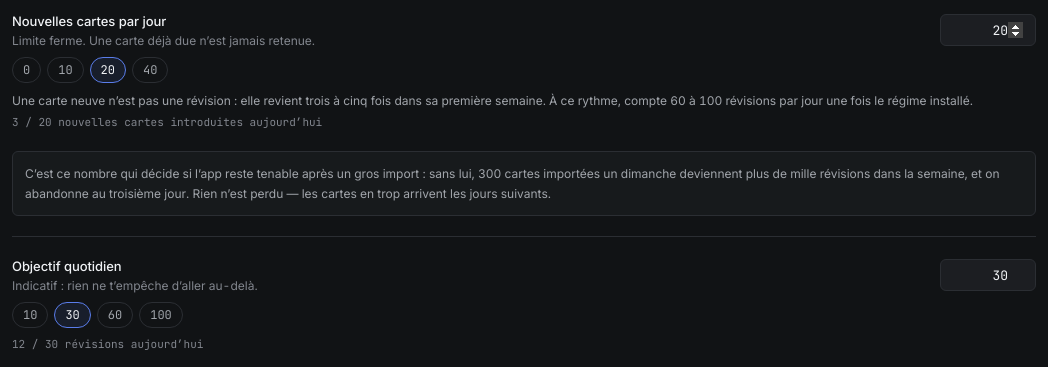
Scenario: committing a change › restores the stored value when the field is left empty, instead of writing a default
Clear the number field labelled "Nouvelles cartes par jour" at [988, 30], box [940,14,1036,46]
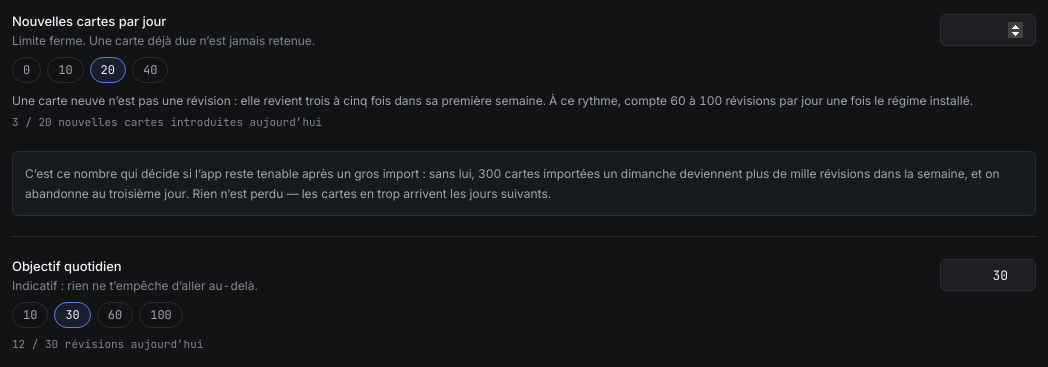
Leave the number field labelled "Nouvelles cartes par jour", box [940,14,1036,46]
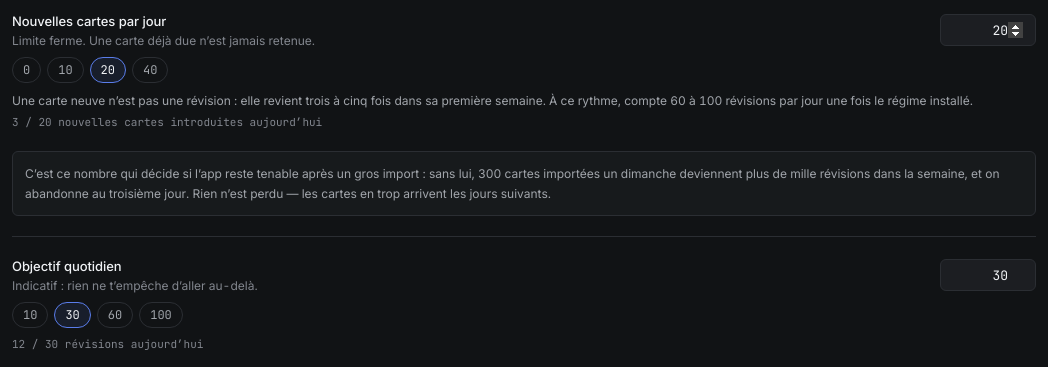
Result: the number field labelled "Nouvelles cartes par jour" holds "20" at [940,14,1036,46]
